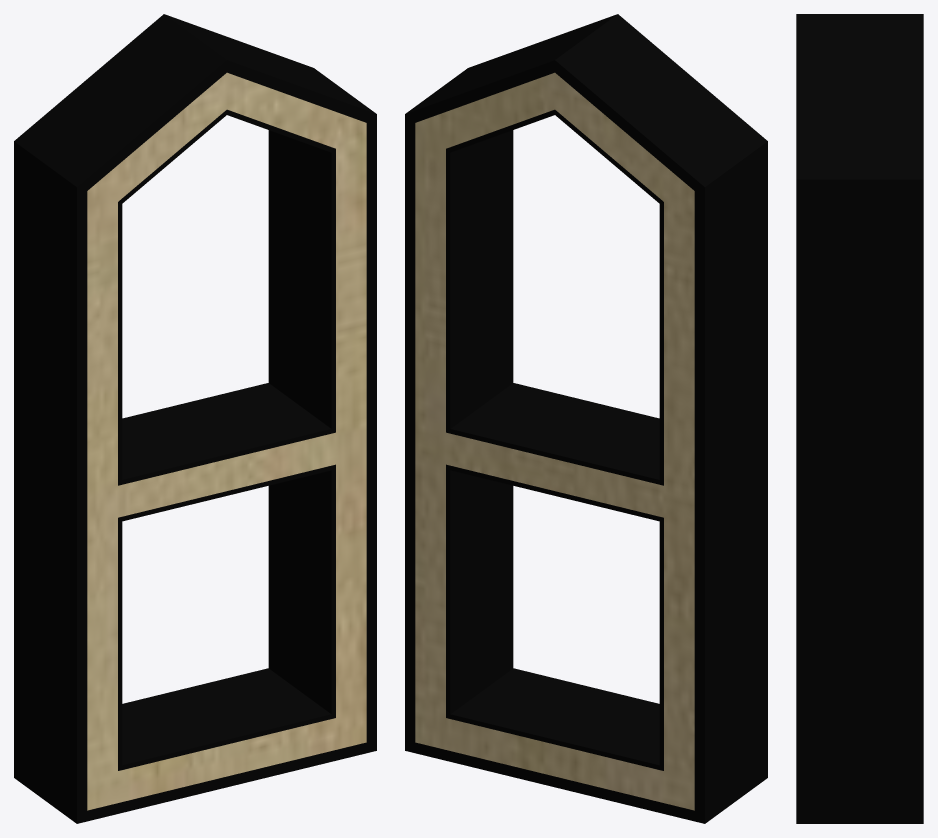
3 views of the same model, side by side, from view 1: azimuth 30°, elevation 25°; view 2: azimuth 150°, elevation 25°; view 3: azimuth 270°, elevation 25° (orthographic).
Parts seen in each view (by area): view 1: C-5; view 2: C-5; view 3: C-5.
Part boxes in pixels (x1,y1,x2,y2): C-5: [14, 14, 376, 823]; C-5: [405, 14, 767, 823]; C-5: [796, 14, 923, 823].
Size of the model in its own units: 3.3 by 7.65 by 1.2.
2 materials, 1 textured.
